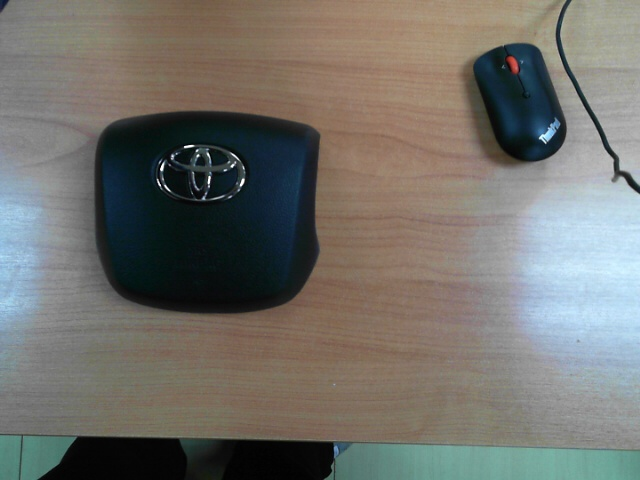Airbag: (91, 108, 322, 313)
